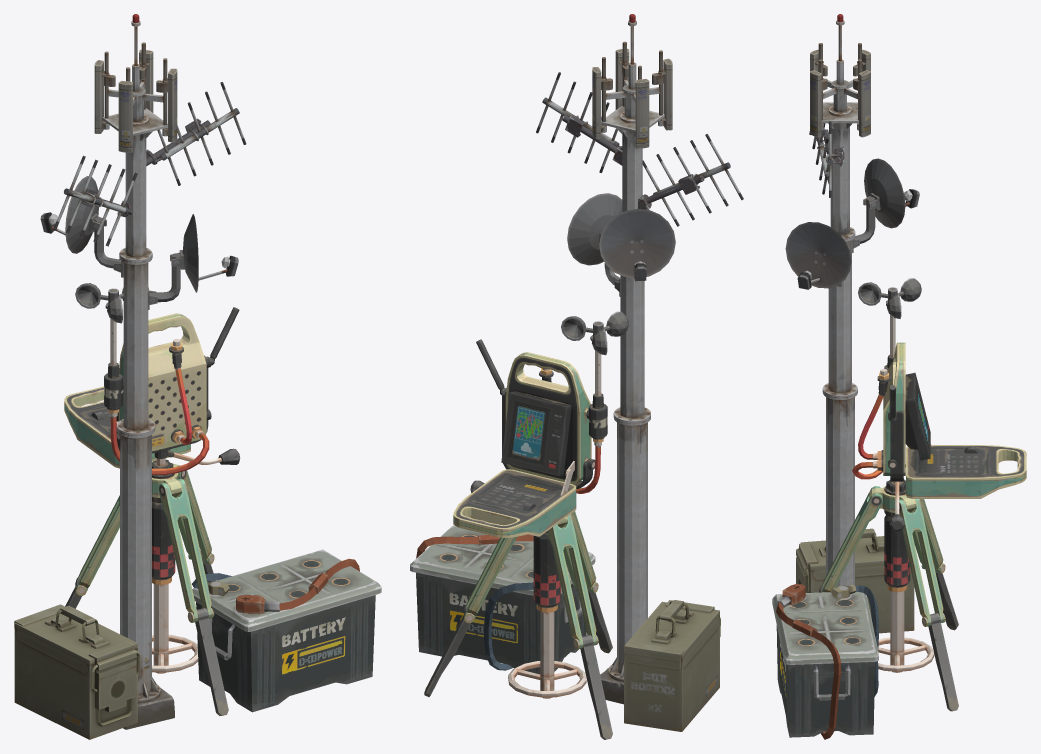
The model's file is P_Task_big.obj.
3 renders of one model, left to right at view 1: azimuth 30°, elevation 25°; view 2: azimuth 150°, elevation 25°; view 3: azimuth 270°, elevation 25°, orthographic. The views are drawn at different scales.
Bounding box in the file's own units: 1.61 × 3.33 × 1.21.
Materials: 12 (12 with a texture image).
